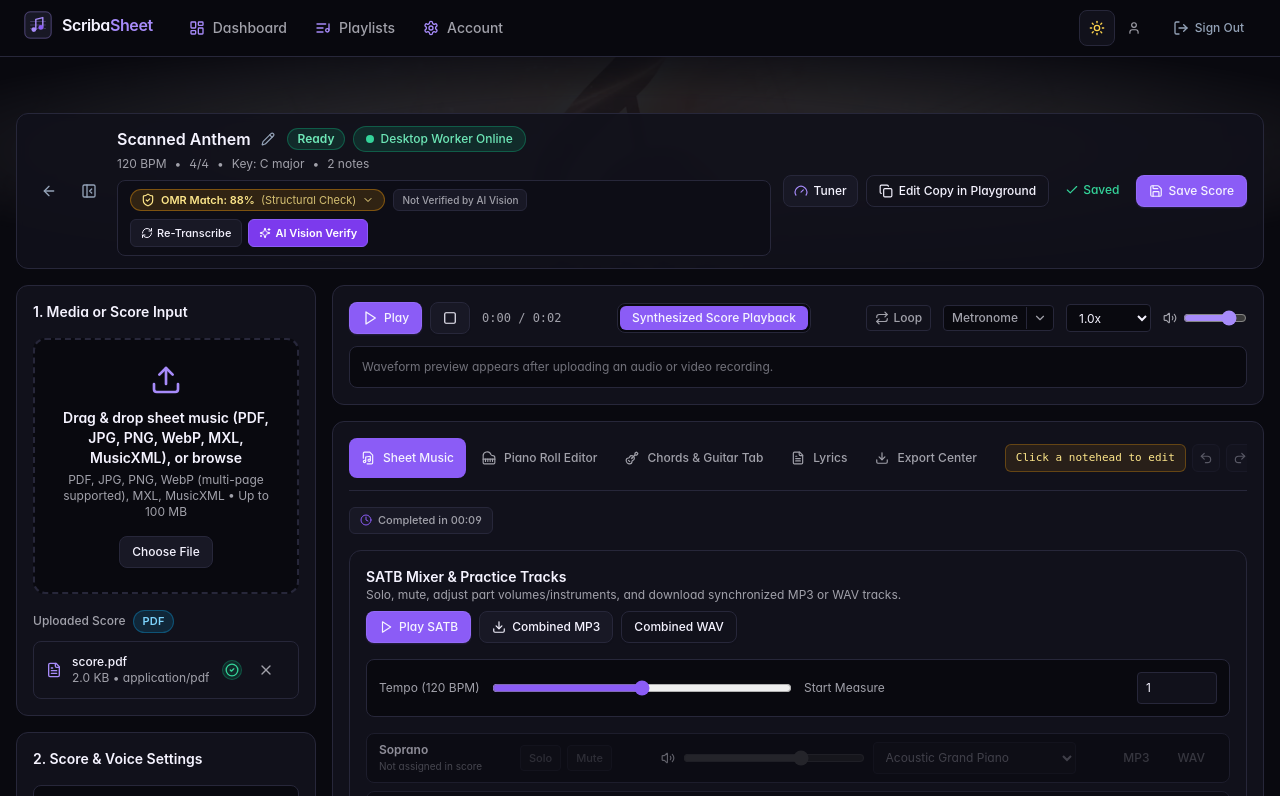
Studio Toolbar Fix, Reference Sheet Split View, & OMR Verification UI › displays OMR Match badge, runs AI Vision Verify, reviews/applies/reverts fixes, and warns on Re-Transcribe for OMR projects
The image size is (1280, 796).
Later steps or results of the test are not shown.
Check: the button with test id "omr-match-badge" shows "OMR Match: 88%", box 130,189 -> 385,211
Check: the button with test id "omr-match-badge" shows "Structural Check", box 130,189 -> 385,211
Re-Transcribe shows warning confirmation before replacing notation
Click the button with test id "omr-retranscribe-btn" at (186, 233), box 130,219 -> 242,247
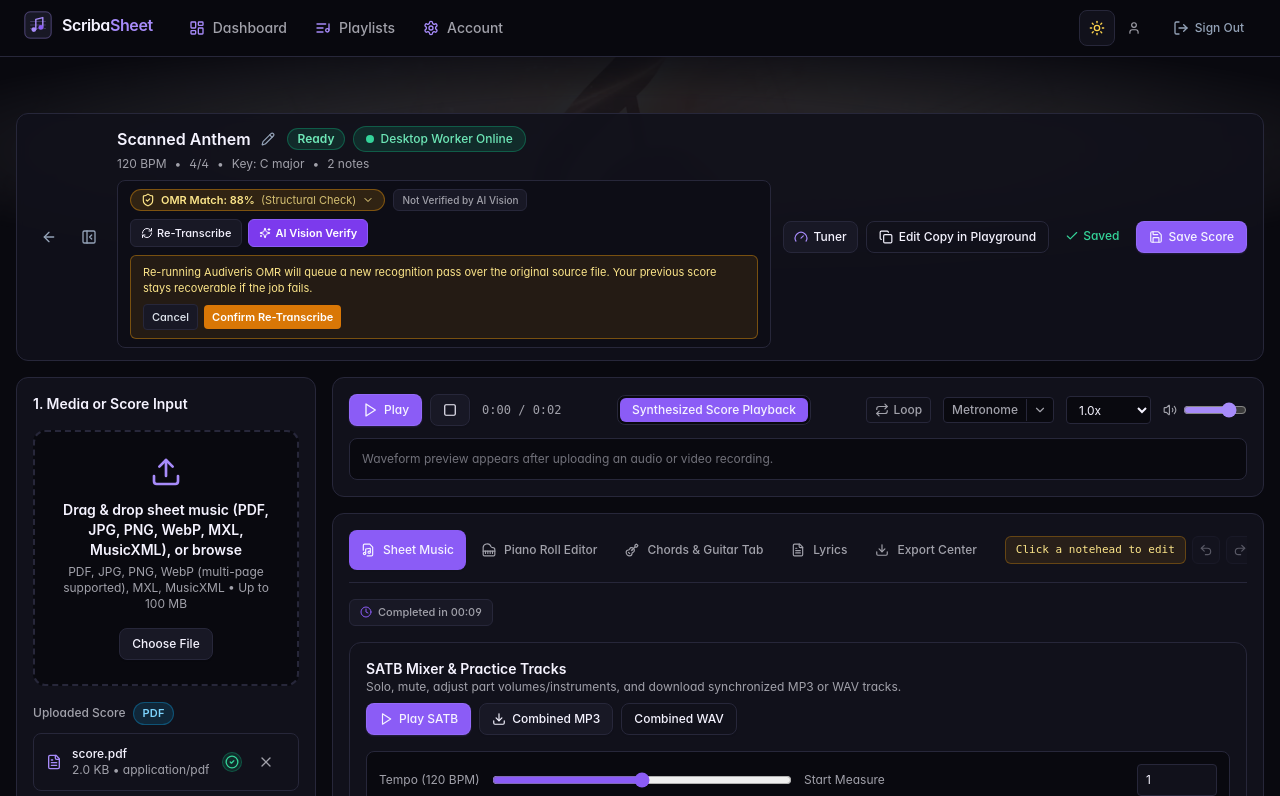
Check: the element with test id "omr-retranscribe-warning" is shown, box 130,255 -> 758,339
Click the button with test id "omr-ai-verify-btn" at (308, 233), box 248,219 -> 368,247
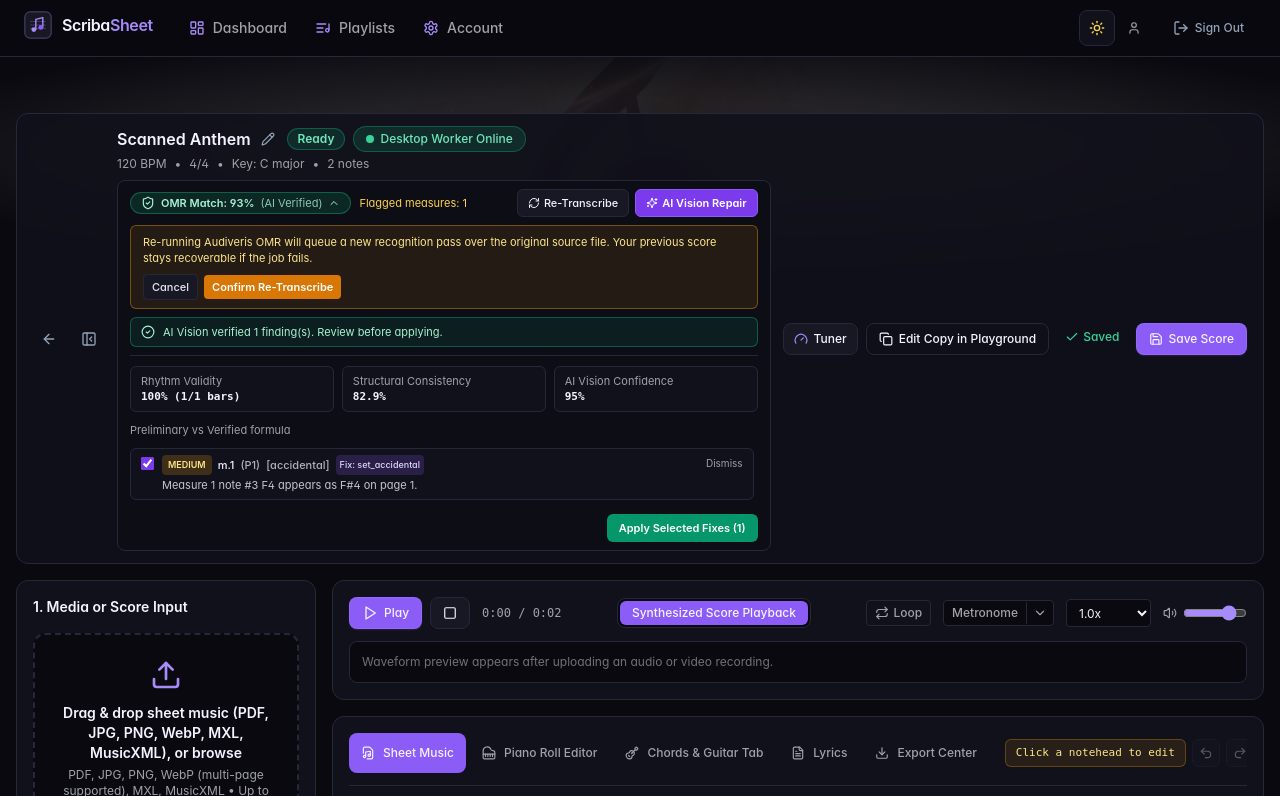
Check: the element with test id "omr-finding-ai-p1-acc1" is shown, box 130,448 -> 754,500
Check: the button with test id "omr-match-badge" shows "OMR Match: 93%", box 130,192 -> 351,214
Check: the button with test id "omr-match-badge" shows "AI Verified", box 130,192 -> 351,214
Click the button with test id "omr-apply-fixes-btn" at (682, 528), box 607,514 -> 758,542
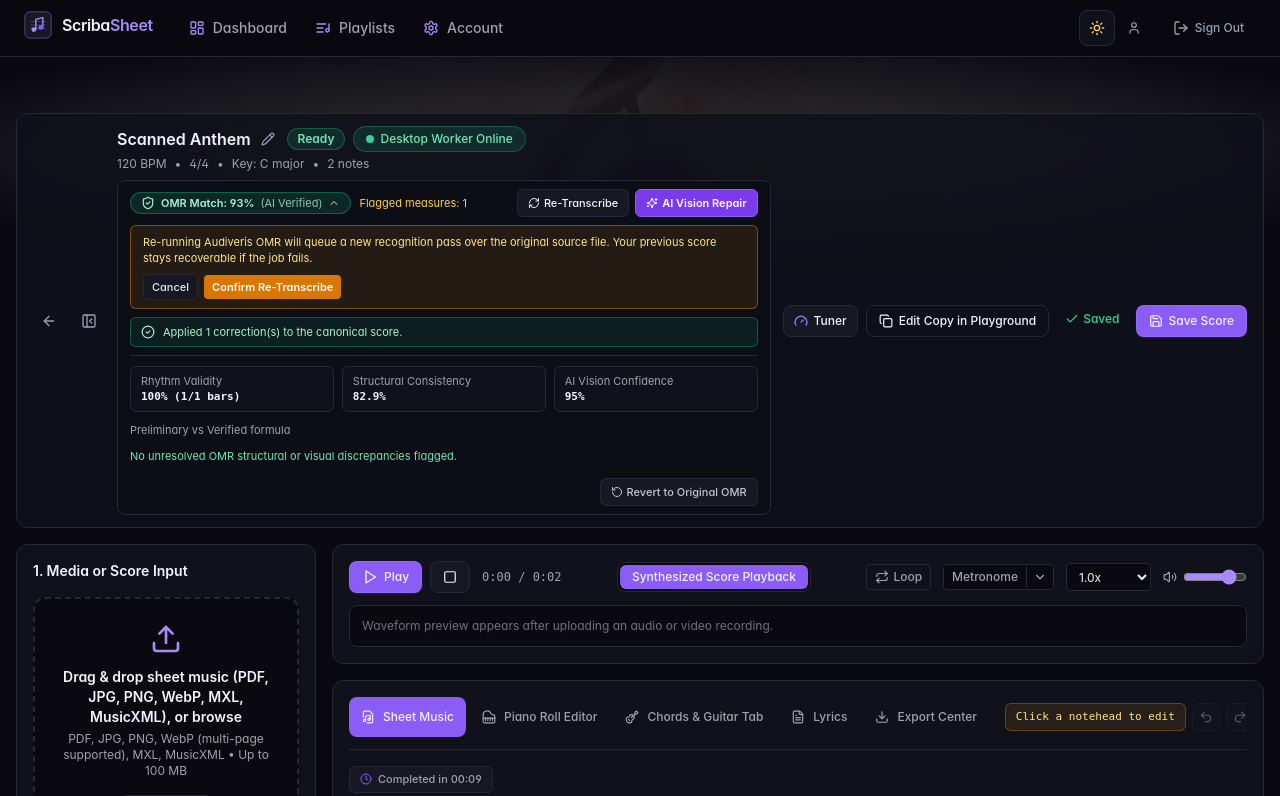
Check: the button with test id "omr-revert-btn" is shown, box 600,478 -> 758,506
